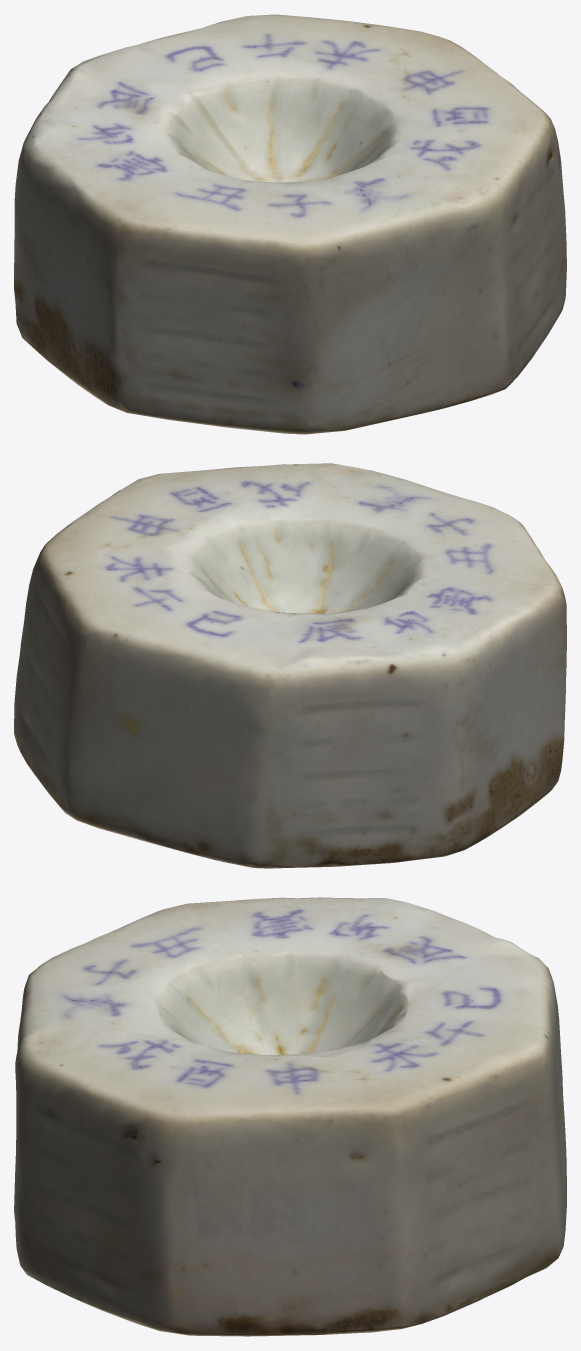
The model's file is SM_Porcelain_Sundial.fbx.
3 renders of one model, top to bottom at view 1: azimuth 30°, elevation 25°; view 2: azimuth 150°, elevation 25°; view 3: azimuth 270°, elevation 25°, orthographic. The views are drawn at different scales.
Visible parts, largest first — view 1: KCDF_2022_prop_White_Porcelain_Hemispherical_Sundial_Mesh; view 2: KCDF_2022_prop_White_Porcelain_Hemispherical_Sundial_Mesh; view 3: KCDF_2022_prop_White_Porcelain_Hemispherical_Sundial_Mesh.
Boxes of the visible parts, <box> form: KCDF_2022_prop_White_Porcelain_Hemispherical_Sundial_Mesh: <box>14,14,566,434</box>; KCDF_2022_prop_White_Porcelain_Hemispherical_Sundial_Mesh: <box>14,463,566,868</box>; KCDF_2022_prop_White_Porcelain_Hemispherical_Sundial_Mesh: <box>14,897,566,1336</box>.
Bounding box in the file's own units: 16.76 × 7.57 × 16.29.
Materials: 1 (1 with a texture image).
